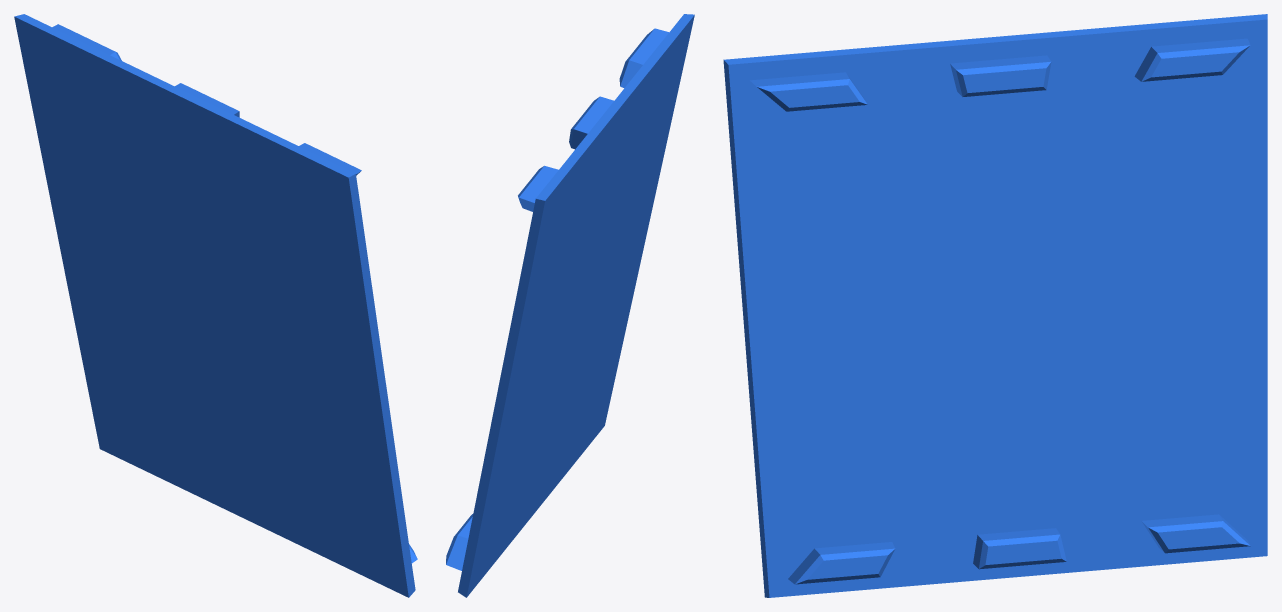
Rendered from Baluminaria-Seg03.fbx.
3 views of the same model, side by side, from view 1: azimuth 30°, elevation 25°; view 2: azimuth 150°, elevation 25°; view 3: azimuth 270°, elevation 25° (orthographic). The views are drawn at different scales.
Visible parts, largest first — view 1: Seg03; view 2: Seg03; view 3: Seg03.
Boxes of the visible parts, left/top/right/bottom form: Seg03: left=14, top=14, right=417, bottom=597; Seg03: left=446, top=14, right=694, bottom=597; Seg03: left=723, top=14, right=1267, bottom=597.
Size of the model in its own units: 1466 by 3366 by 3348.
